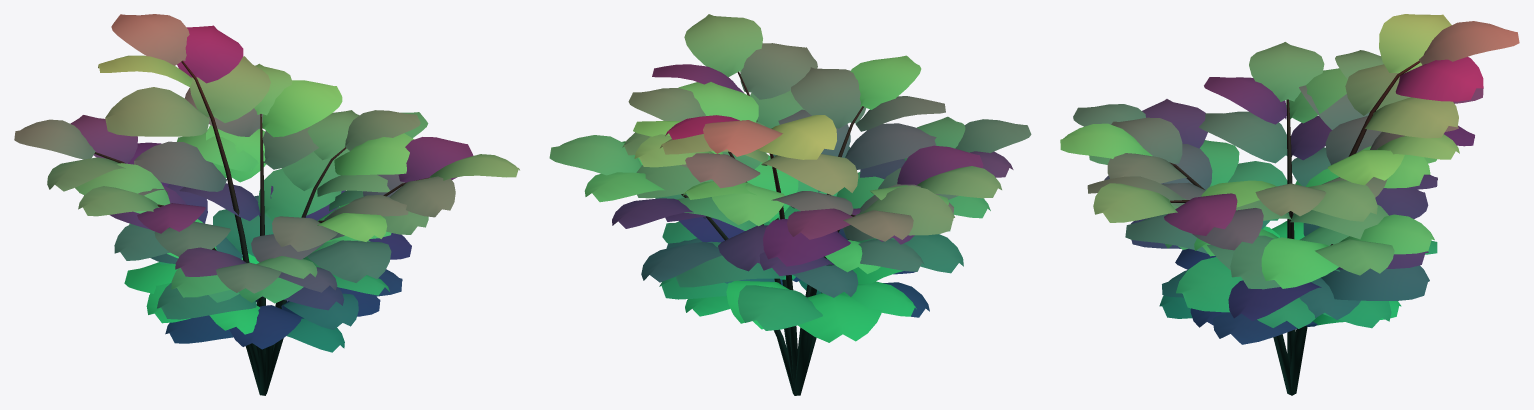
Rendered from RoundleafShrub_A.fbx.
3 renders of one model, left to right at view 1: azimuth 30°, elevation 25°; view 2: azimuth 150°, elevation 25°; view 3: azimuth 270°, elevation 25°, orthographic. The views are drawn at different scales.
Visible parts, largest first — view 1: RoundleafShrub_A_LOD0; view 2: RoundleafShrub_A_LOD0; view 3: RoundleafShrub_A_LOD0.
Part boxes in pixels (bbox=[...]): RoundleafShrub_A_LOD0: bbox=[14, 14, 519, 395]; RoundleafShrub_A_LOD0: bbox=[549, 14, 1031, 395]; RoundleafShrub_A_LOD0: bbox=[1060, 14, 1519, 395].
Size of what is drawn, in the model's own units: 1.25 by 1.01 by 1.21.
